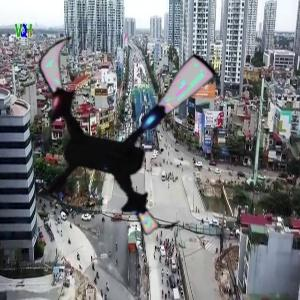drone: (10, 15, 237, 242)
